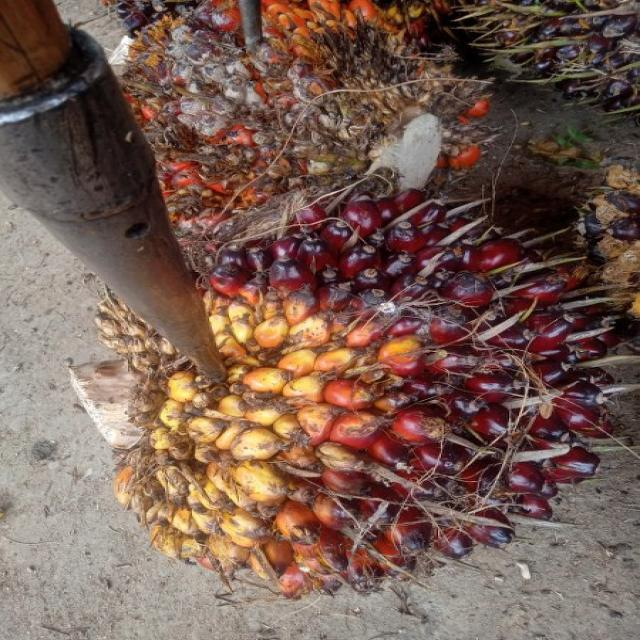fraksi 1: (72, 176, 604, 640)
